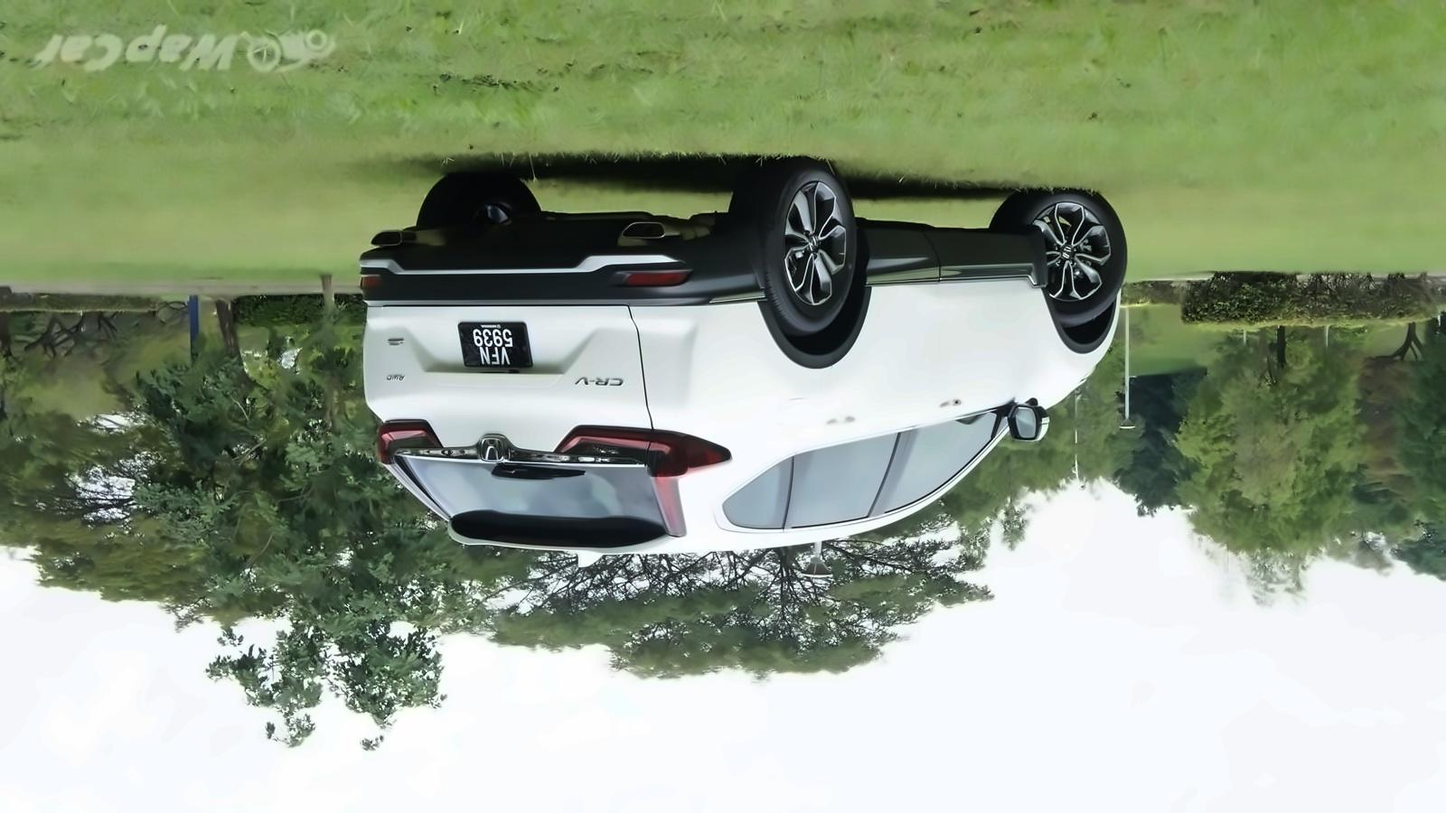Car boot: (362, 299, 666, 554)
Fender - -F-L-: (1023, 279, 1092, 407)
Fender - -R-L-: (711, 306, 807, 477)
Front bumper: (1094, 285, 1133, 368)
Passenger-s door - -F-L-: (905, 283, 1029, 524)
Passenger-s door - -R-L-: (786, 280, 906, 543)
Rear bumper: (349, 218, 776, 317)
Rear light - -L-: (550, 419, 733, 542)
Rear light - -R-: (367, 412, 454, 527)
Side bumper - -L-: (854, 217, 1055, 290)
Side mirror - -L-: (1000, 400, 1064, 450)
